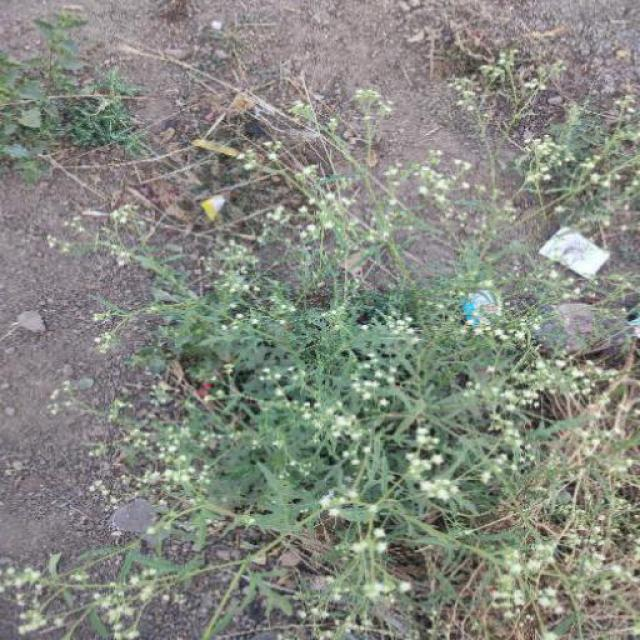weed: (129, 248, 581, 612)
